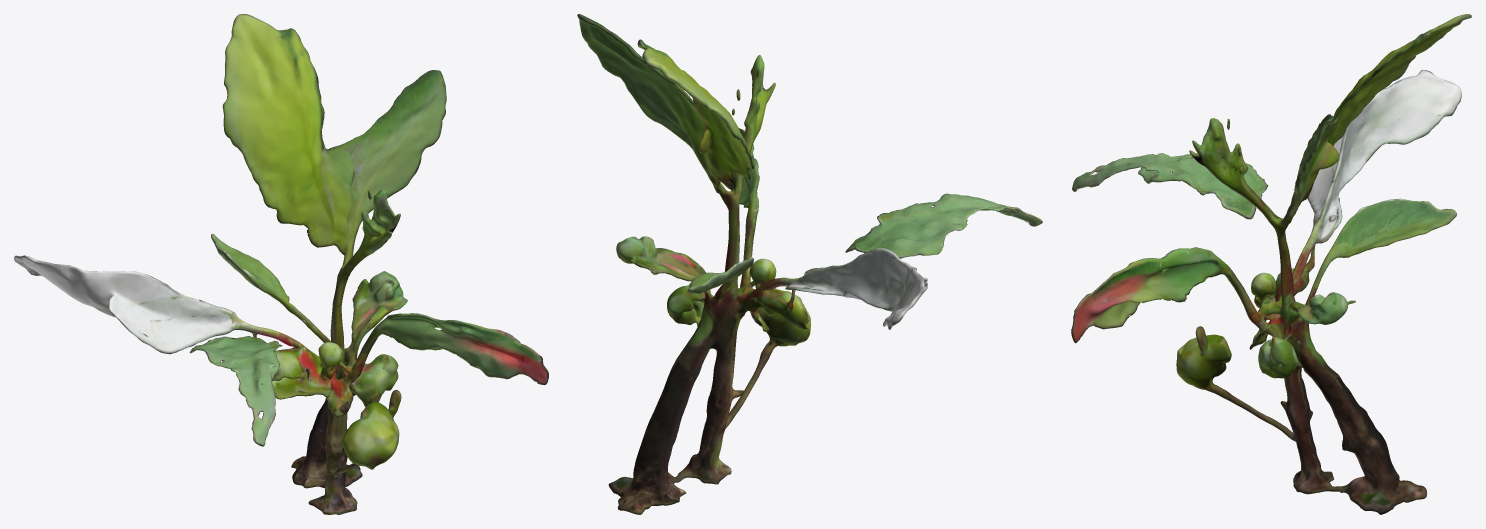
File: TREE0046.gltf
3 views of the same model, side by side, from view 1: azimuth 30°, elevation 25°; view 2: azimuth 150°, elevation 25°; view 3: azimuth 270°, elevation 25° (orthographic). The views are drawn at different scales.
Parts seen in each view (by area): view 1: Mesh_0.054; view 2: Mesh_0.054; view 3: Mesh_0.054.
Boxes of the visible parts, left/top/right/bottom form: Mesh_0.054: left=14, top=14, right=548, bottom=514; Mesh_0.054: left=577, top=14, right=1042, bottom=514; Mesh_0.054: left=1071, top=14, right=1471, bottom=514.
Bounding box in the file's own units: 1.74 × 2 × 1.57.
1 material, 1 textured.
